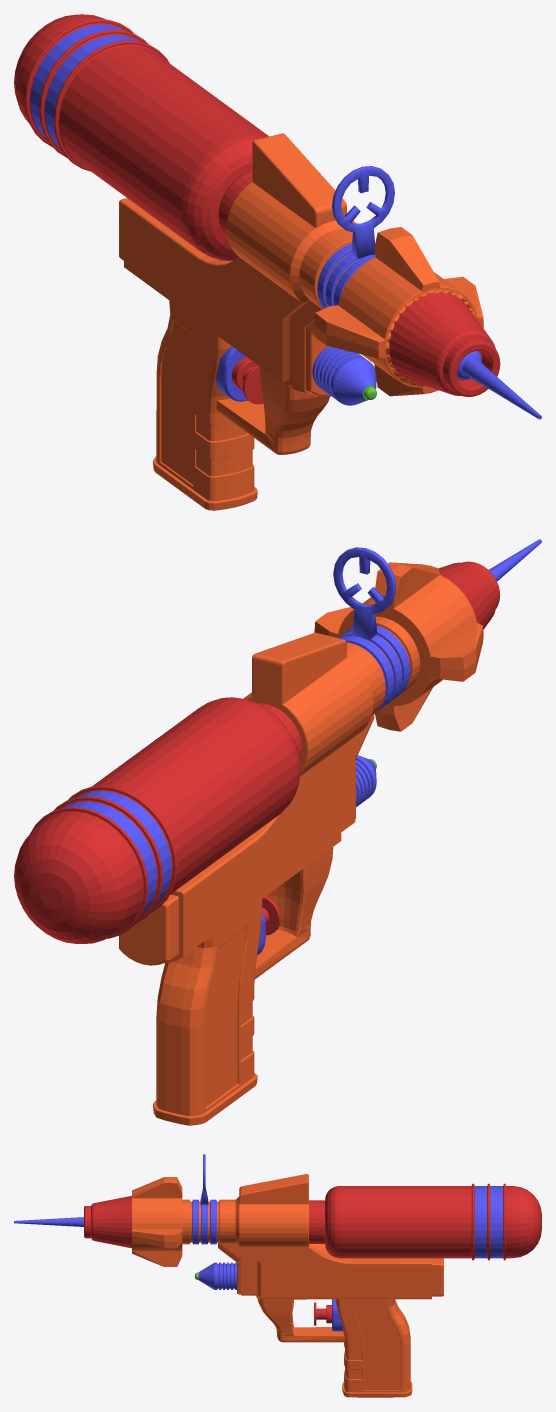
File: LaserGun_01.fbx
3 renders of one model, top to bottom at view 1: azimuth 30°, elevation 25°; view 2: azimuth 150°, elevation 25°; view 3: azimuth 270°, elevation 25°, orthographic. The views are drawn at different scales.
Visible parts, largest first — view 1: Watergun3; view 2: Watergun3; view 3: Watergun3.
Boxes of the visible parts, left/top/right/bottom form: Watergun3: left=14, top=14, right=541, bottom=510; Watergun3: left=14, top=539, right=541, bottom=1125; Watergun3: left=14, top=1154, right=541, bottom=1397.
Size of the model in its own units: 8.44 by 23.22 by 47.35.
